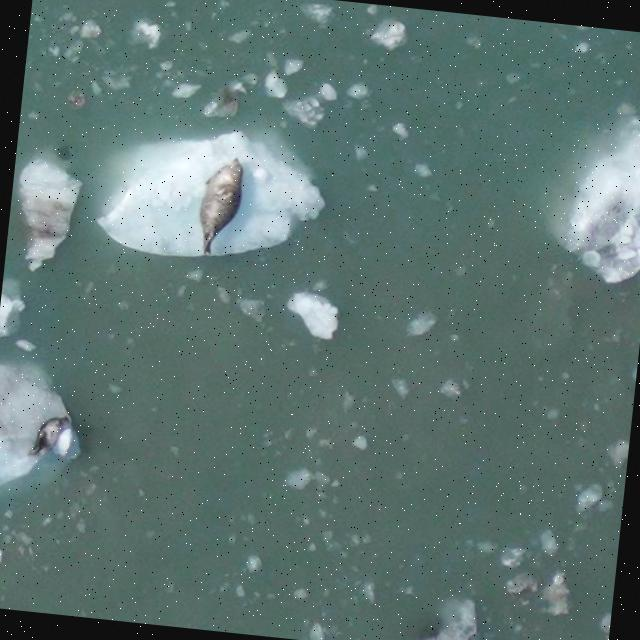seal: (18, 405, 72, 467)
